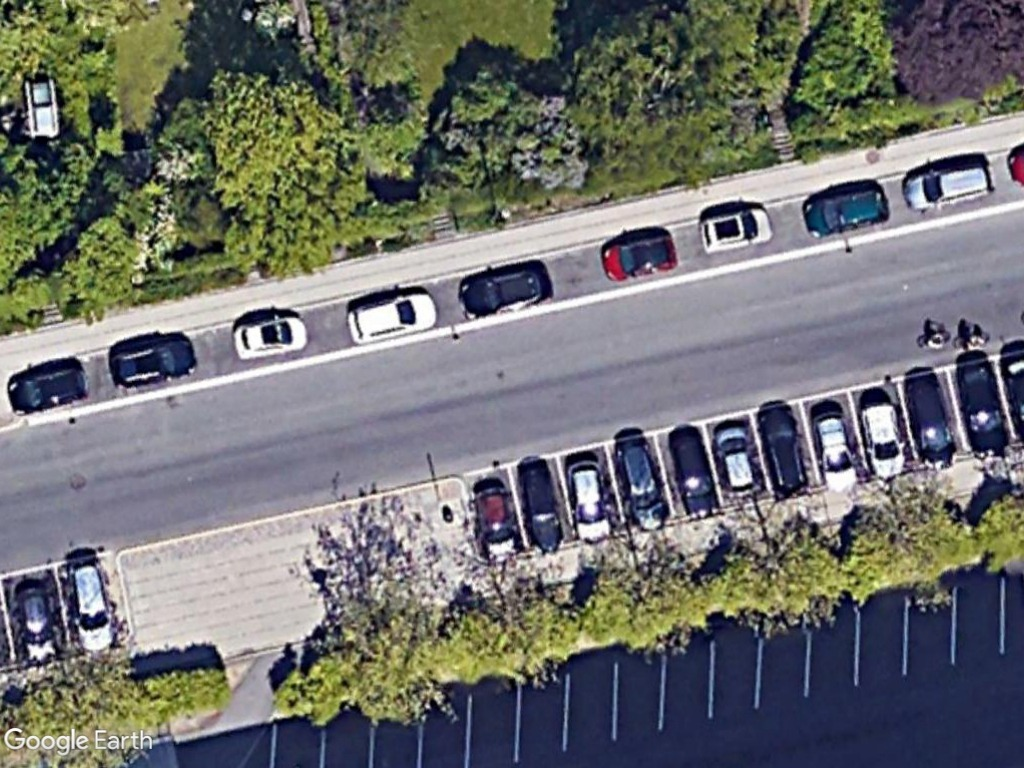car: (453, 253, 556, 325), (949, 351, 1014, 462), (607, 430, 670, 533), (339, 287, 440, 350), (901, 364, 960, 471), (512, 454, 573, 557), (64, 553, 122, 658), (664, 423, 723, 523), (105, 331, 200, 393), (756, 405, 815, 504), (795, 180, 897, 237), (896, 159, 999, 215), (564, 451, 617, 549), (593, 228, 684, 285), (226, 308, 317, 365), (471, 473, 526, 567), (855, 393, 911, 485), (692, 201, 779, 260), (2, 362, 89, 420), (705, 419, 762, 505), (813, 404, 864, 493)
